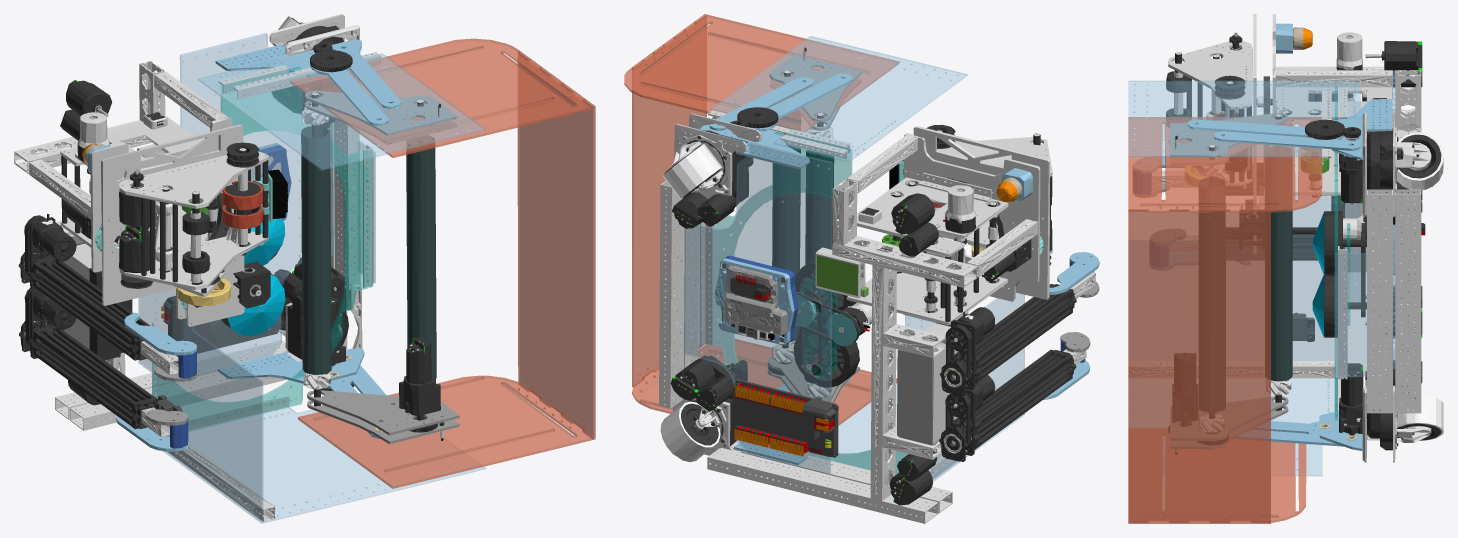
The picture shows the model from 3 angles, left to right: view 1: azimuth 30°, elevation 25°; view 2: azimuth 150°, elevation 25°; view 3: azimuth 270°, elevation 25°; orthographic projection. The views are drawn at different scales.
Visible parts, largest first — view 1: main_mesh, c1_mesh, c0_mesh; view 2: main_mesh, c1_mesh, c0_mesh; view 3: c1_mesh, main_mesh, c0_mesh.
Boxes of the visible parts, x1,y1,x2,y2 form: main_mesh: (14, 14, 485, 523); c1_mesh: (215, 38, 595, 488); c0_mesh: (118, 142, 287, 306); main_mesh: (659, 36, 1099, 523); c1_mesh: (624, 14, 898, 465); c0_mesh: (889, 124, 1052, 265); c1_mesh: (1128, 99, 1391, 523); main_mesh: (1128, 14, 1443, 475); c0_mesh: (1166, 32, 1252, 186).
Bounding box in the file's own units: 0.9081 × 0.7162 × 0.6178.
